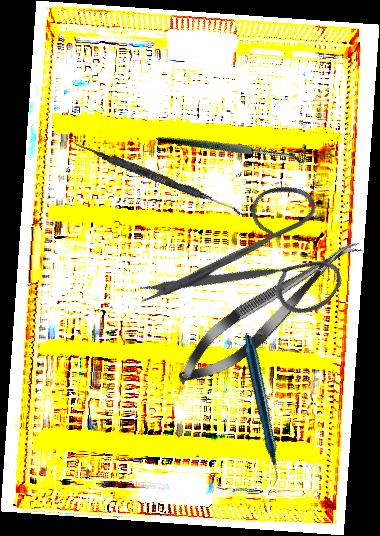Handpiece: (192, 333, 328, 487)
Hook Surgical: (155, 72, 314, 217)
Iris Scissors: (132, 145, 374, 392)
Micro Scissor: (166, 224, 371, 398)
Spatula Surgical: (72, 141, 244, 215)
